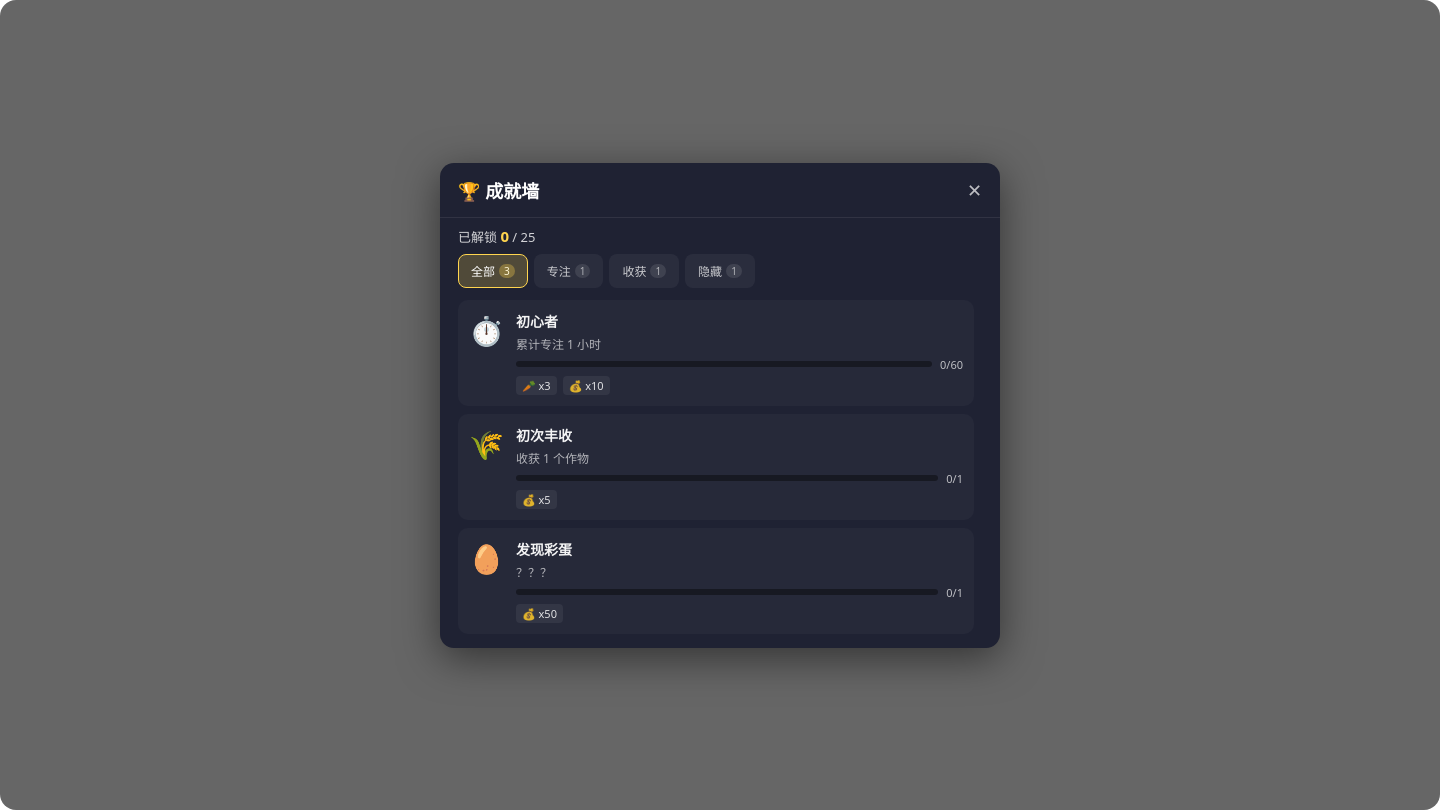
Test: GardenAchievement.vue › 『harvest』分类应只显示 harvest 类成就
Click the button with class "achievement-tab" showing "收获".
click(644, 270)  # box [609,254,679,288]
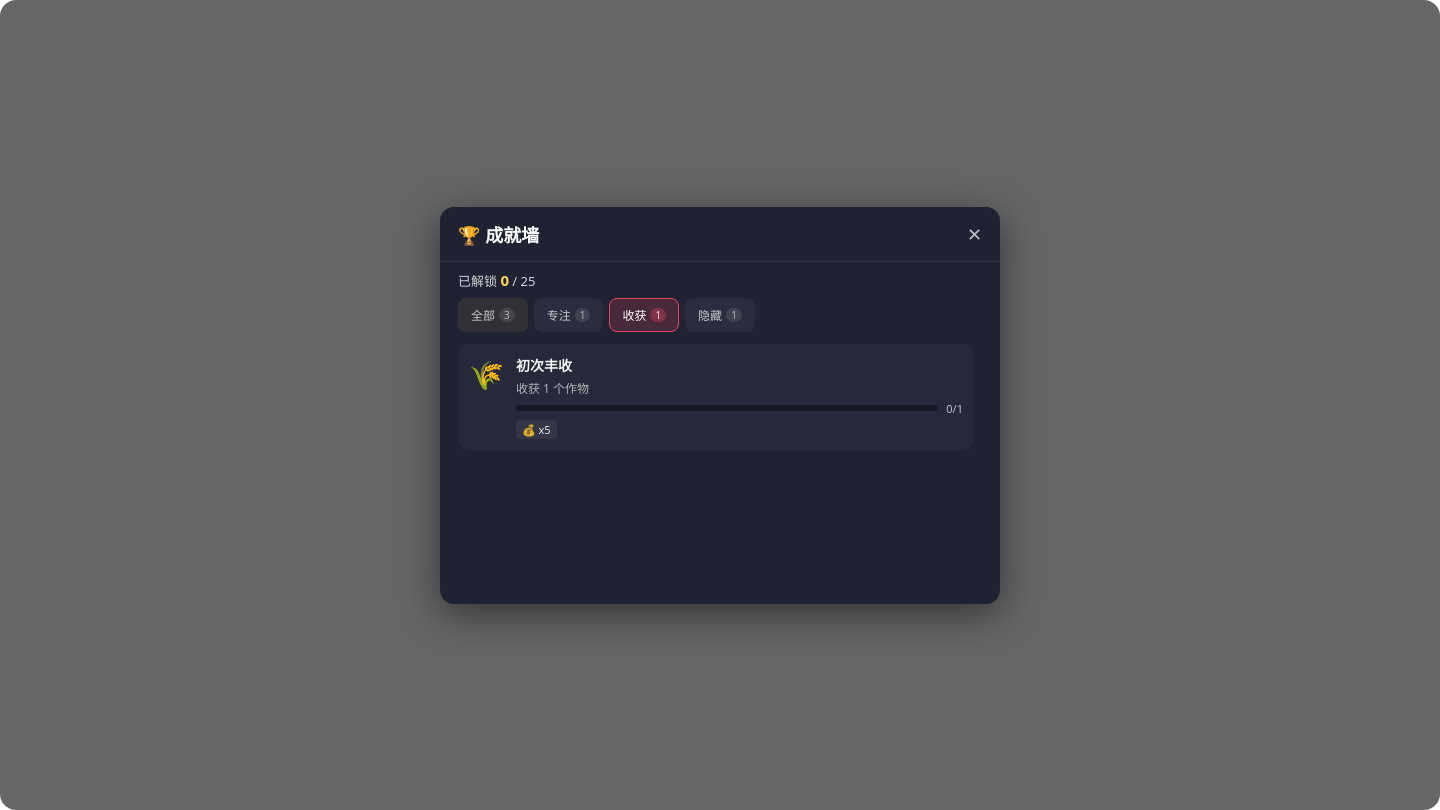
Expected: the text with class "achievement-item__name" reads "初次丰收", [516,356,572,374]
Now the number of elements with class "achievement-item" is 1, box [458,344,974,450]
